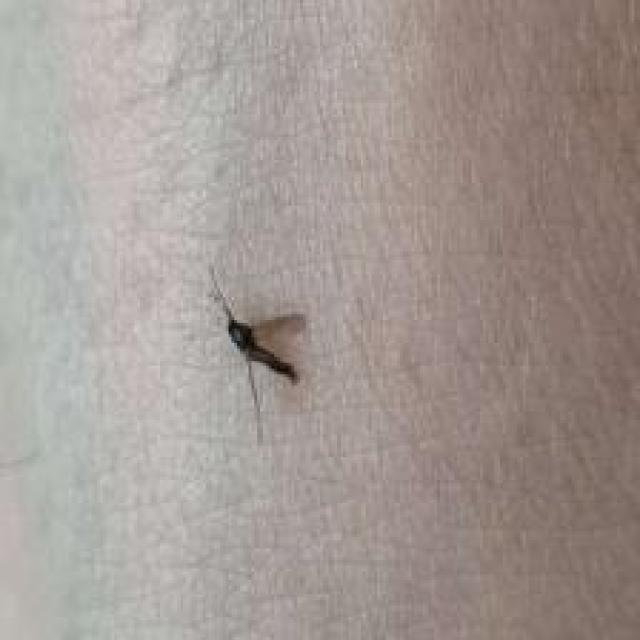Aedes albopictus: (205, 263, 308, 446)
